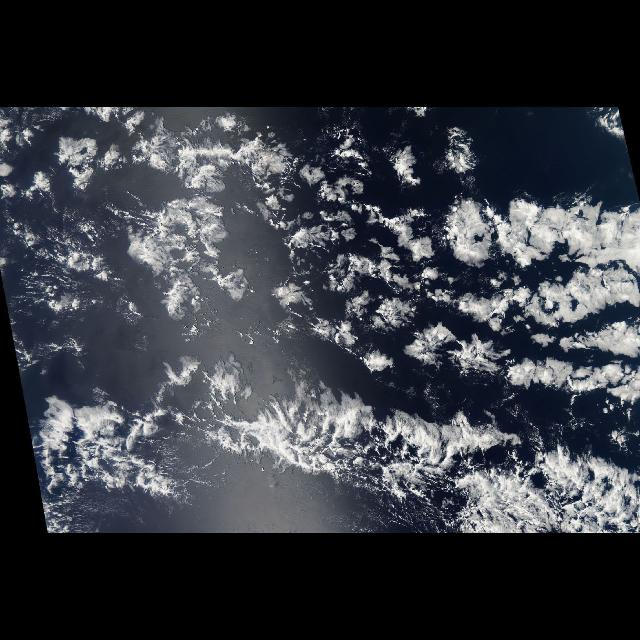Fish: (256, 359, 462, 506)
Flower: (240, 175, 504, 368)
